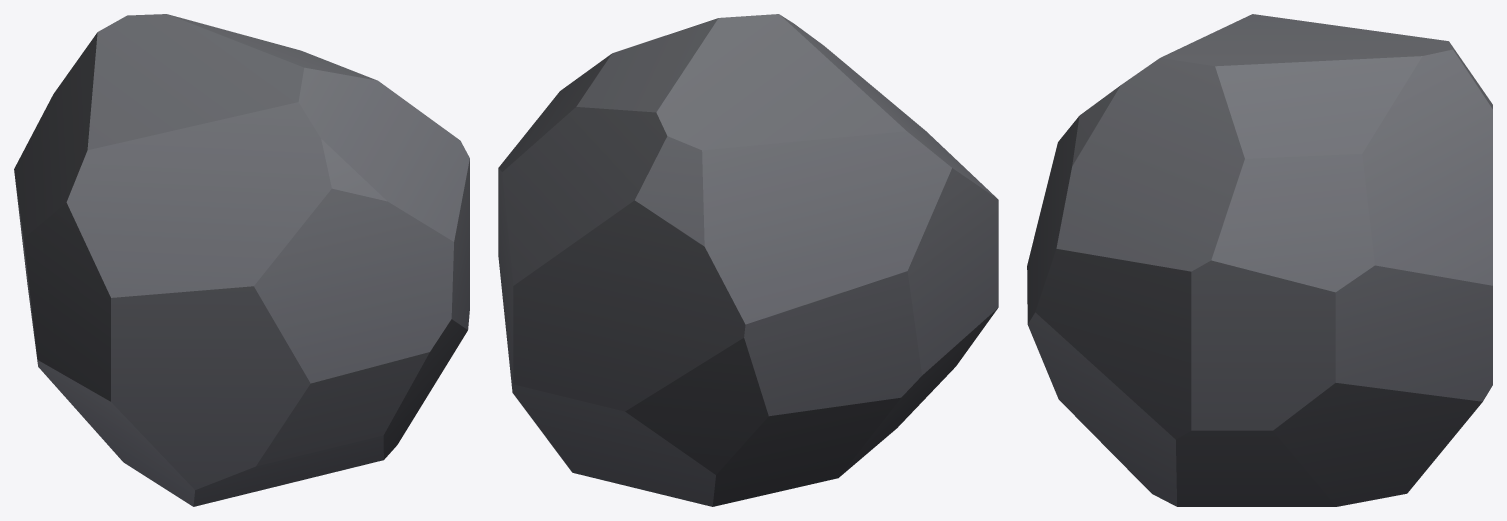
File: Rock_02.fbx
3 renders of one model, left to right at view 1: azimuth 30°, elevation 25°; view 2: azimuth 150°, elevation 25°; view 3: azimuth 270°, elevation 25°, orthographic. The views are drawn at different scales.
Visible parts, largest first — view 1: Rock_02_LOD0; view 2: Rock_02_LOD0; view 3: Rock_02_LOD0.
Part boxes in pixels (x1,y1,x2,y2): Rock_02_LOD0: [14, 14, 469, 506]; Rock_02_LOD0: [498, 14, 998, 506]; Rock_02_LOD0: [1027, 14, 1492, 506].
Size of what is drawn, in the model's own units: 0.729 by 0.6912 by 0.7254.
